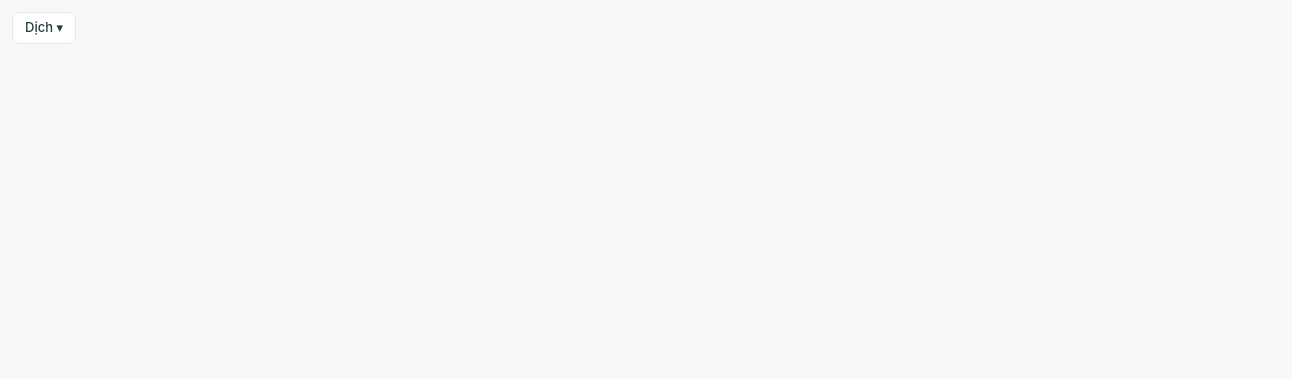
Test: persists a setting without an API key and reloads the saved setting per job
Later steps or results of the test are not shown.
Click the button "Dịch ▾": (44, 28) [12,12,76,44]
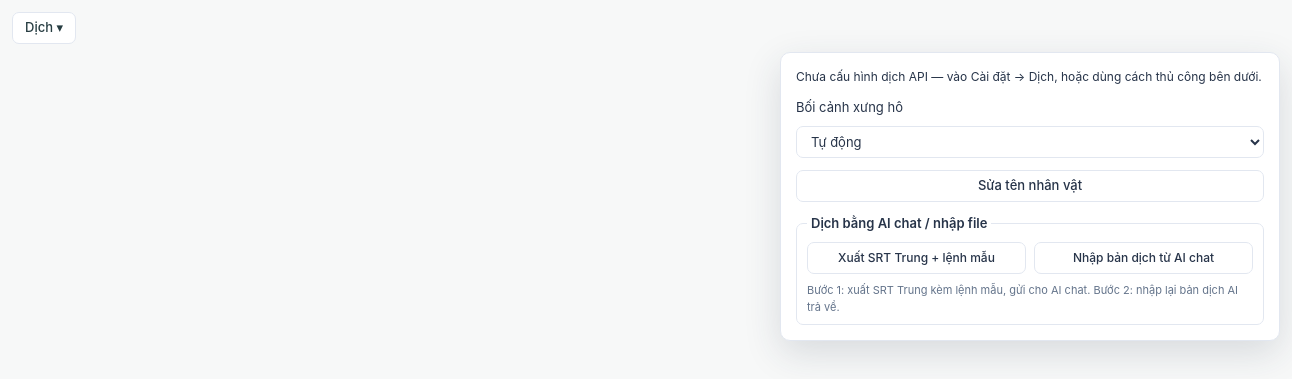
Expected: the dropdown labelled "Bối cảnh xưng hô" shows "Tự động", [796,126,1264,158]
